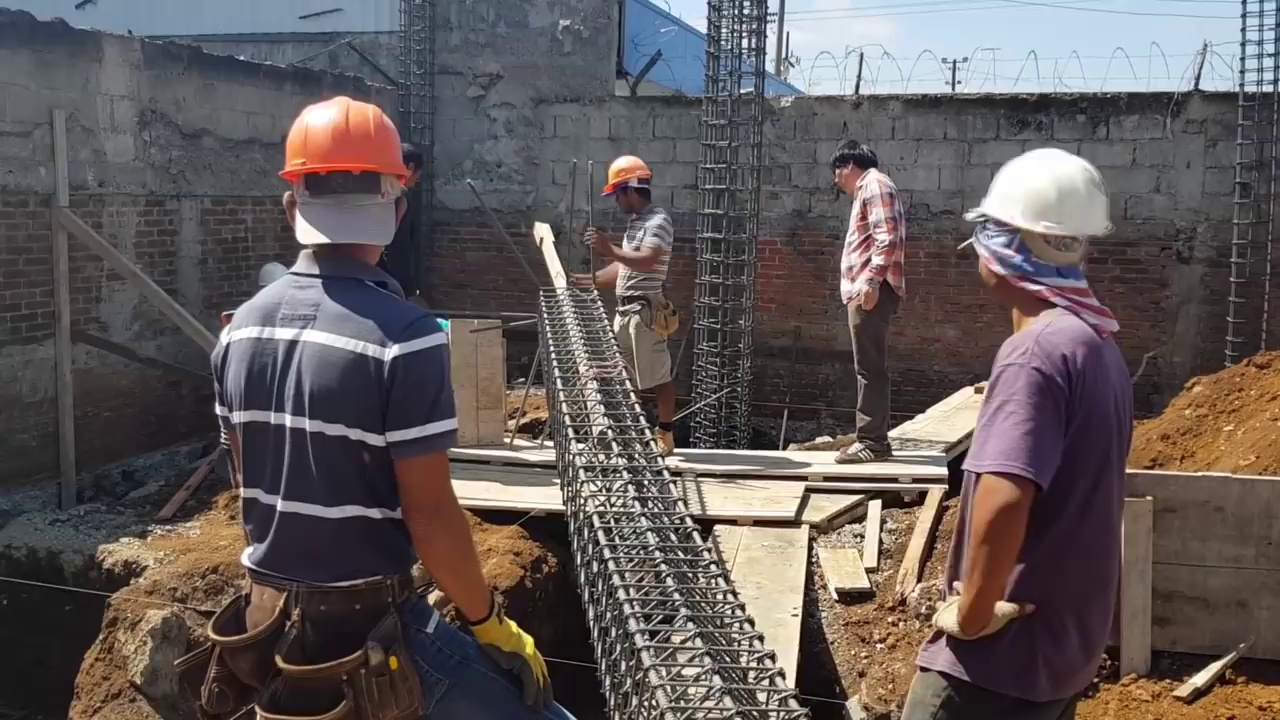helmet: (272, 93, 414, 192), (973, 146, 1113, 245), (600, 157, 651, 201), (258, 263, 286, 288)
helmet-off: (833, 140, 881, 189)
helmet-on: (964, 145, 1114, 345), (274, 92, 414, 278), (598, 159, 648, 222)
person: (208, 90, 573, 720), (921, 140, 1136, 720), (583, 142, 682, 454), (828, 144, 905, 477)
